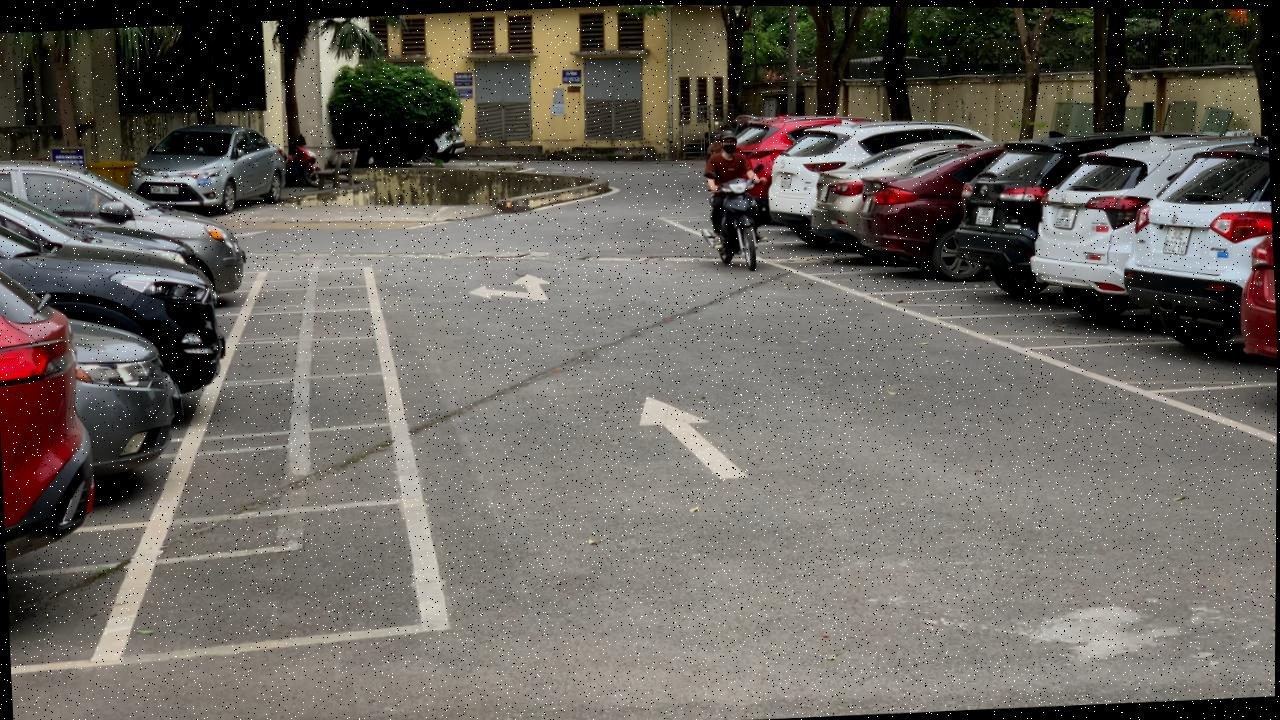helmet: (718, 129, 736, 140)
motorcyclist: (696, 128, 771, 273)
